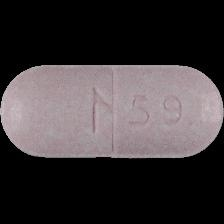68788-9896: (0, 0, 224, 224)
